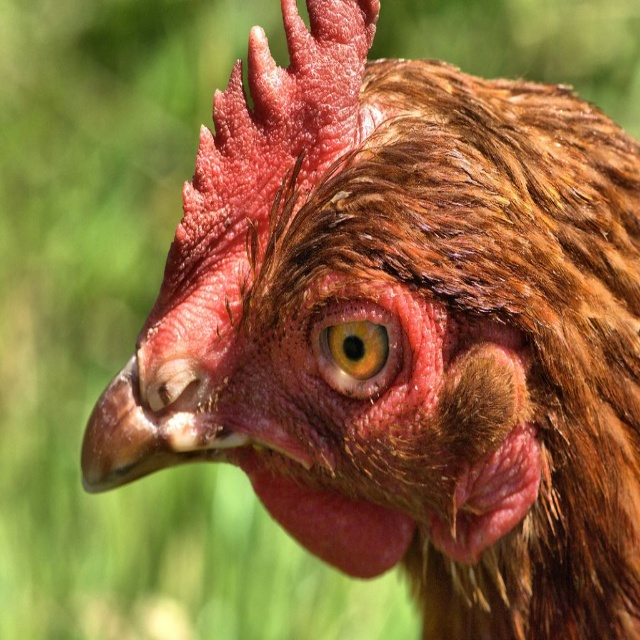Chicken: (81, 0, 640, 640)
